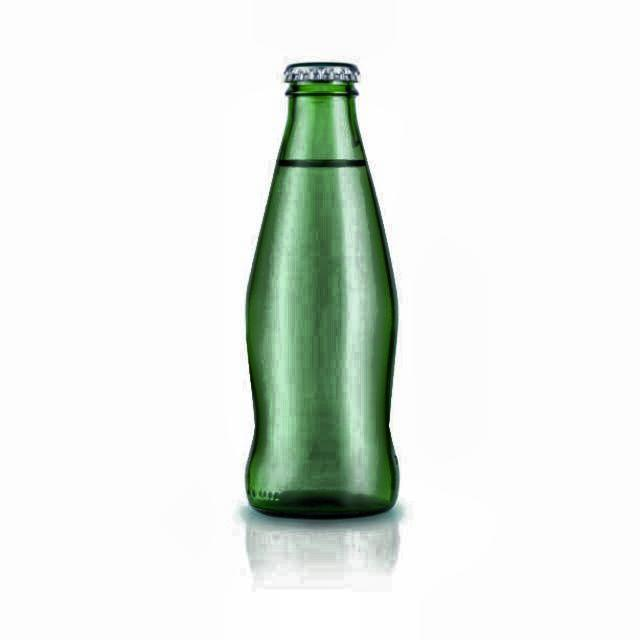glass: (244, 60, 400, 523)
